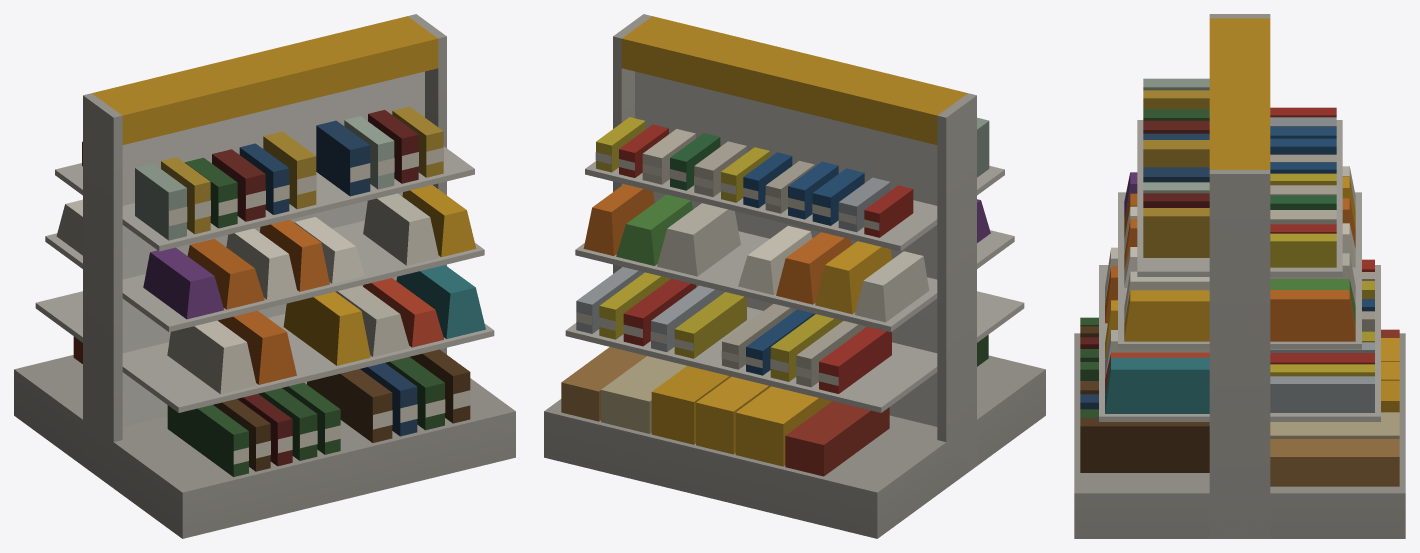
The model's file is shelf.gondola.mixed.glb.
3 views of the same model, side by side, from view 1: azimuth 30°, elevation 25°; view 2: azimuth 150°, elevation 25°; view 3: azimuth 270°, elevation 25° (orthographic).
Parts seen in each view (by area): view 1: shelf_gondola_mixed; view 2: shelf_gondola_mixed; view 3: shelf_gondola_mixed.
Part boxes in pixels (x1=…): shelf_gondola_mixed: x1=14, y1=14, x2=515, y2=538; shelf_gondola_mixed: x1=544, y1=14, x2=1045, y2=538; shelf_gondola_mixed: x1=1074, y1=14, x2=1405, y2=538.
Size of what is drawn, in the model's own units: 1.88 by 2 by 1.65.
